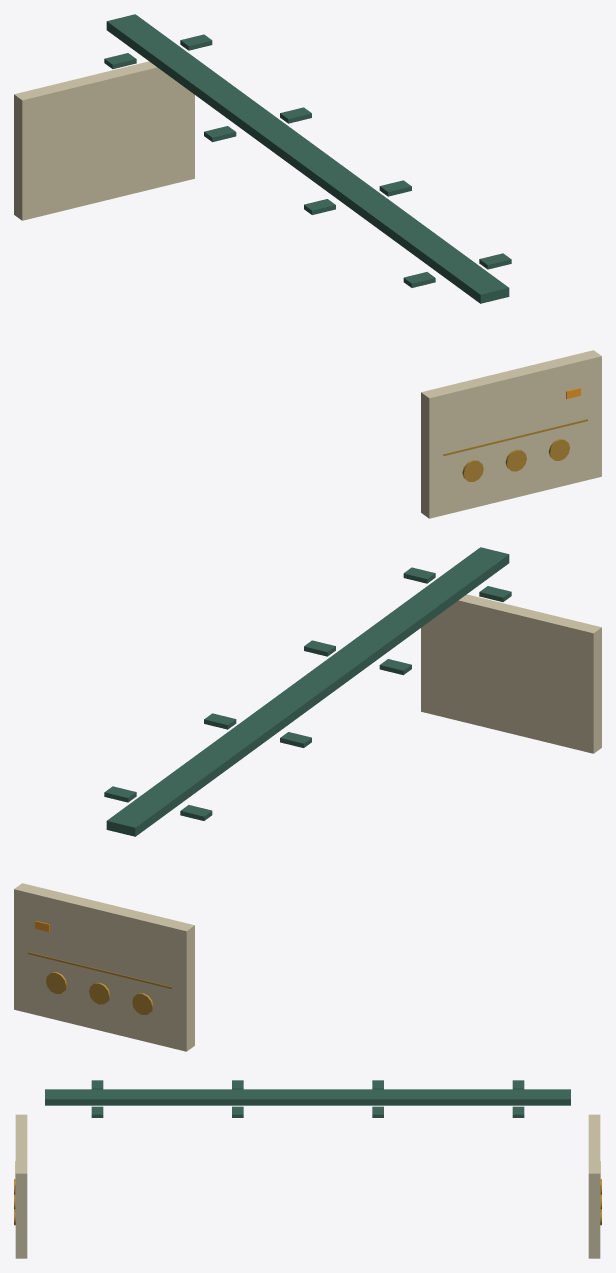
File: vls8_ignition.obj
3 renders of one model, top to bottom at view 1: azimuth 30°, elevation 25°; view 2: azimuth 150°, elevation 25°; view 3: azimuth 270°, elevation 25°, orthographic. The views are drawn at different scales.
Visible parts, largest first — view 1: vls8_ignition; view 2: vls8_ignition; view 3: vls8_ignition.
Part boxes in pixels (x1=…): vls8_ignition: x1=14, y1=14, x2=601, y2=518; vls8_ignition: x1=14, y1=547, x2=601, y2=1051; vls8_ignition: x1=14, y1=1080, x2=601, y2=1258.
Bounding box in the file's own units: 1.2 × 1.27 × 5.03.
